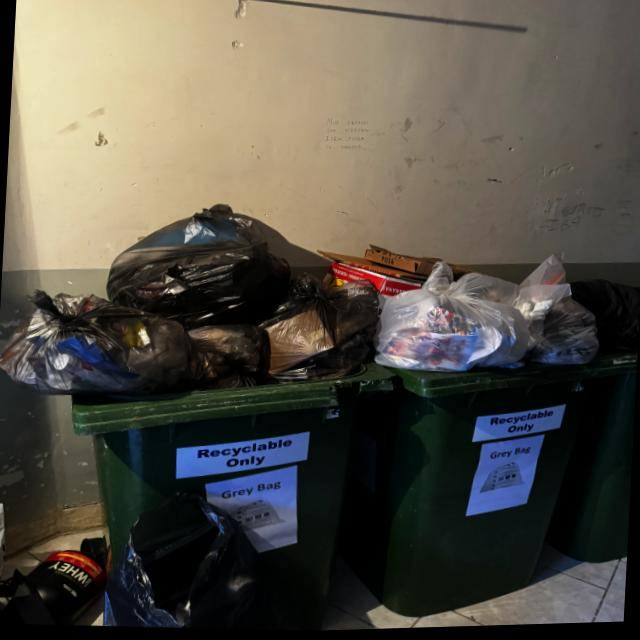Mixed Waste -Black Bags-: (0, 205, 378, 397)
Others Waste: (0, 507, 100, 625), (319, 246, 479, 313)
Recyclable Material -Grey Bags-: (376, 263, 599, 370)
